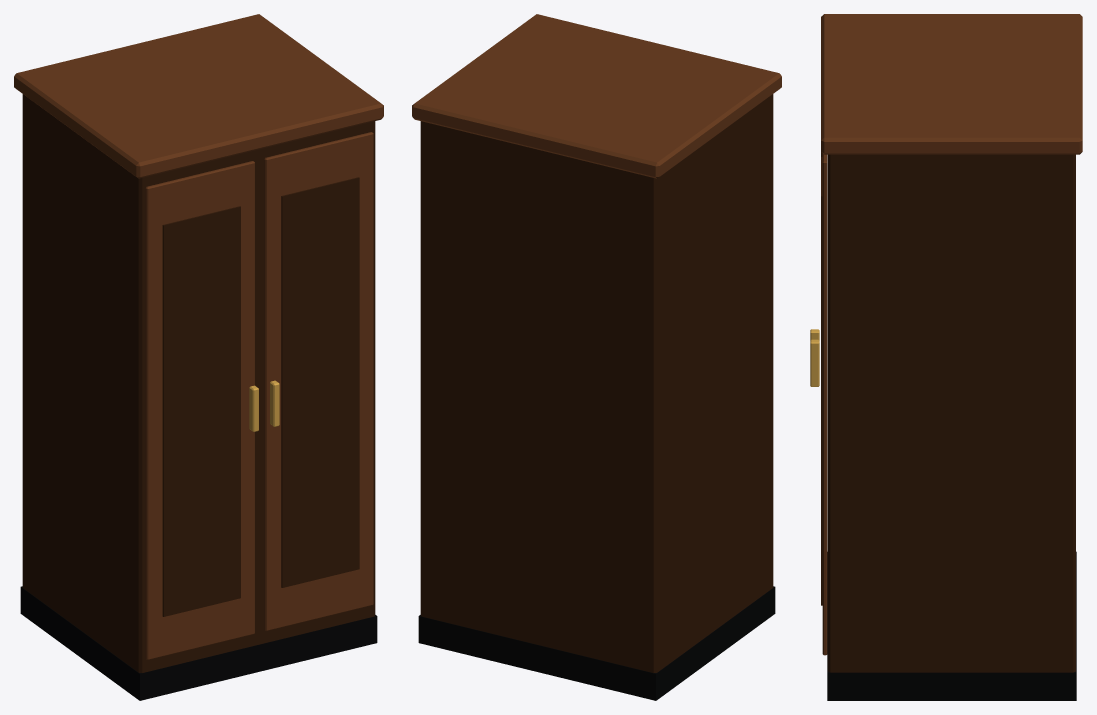
File: cabinet_tall.glb
The picture shows the model from 3 angles, left to right: view 1: azimuth 30°, elevation 25°; view 2: azimuth 150°, elevation 25°; view 3: azimuth 270°, elevation 25°; orthographic projection. The views are drawn at different scales.
Parts seen in each view (by area): view 1: cabinet_tall; view 2: cabinet_tall; view 3: cabinet_tall.
Boxes of the visible parts, x1,y1,x2,y2 form: cabinet_tall: [14, 14, 383, 700]; cabinet_tall: [412, 14, 781, 700]; cabinet_tall: [810, 14, 1082, 700].
Bounding box in the file's own units: 0.96 × 2 × 0.875.
